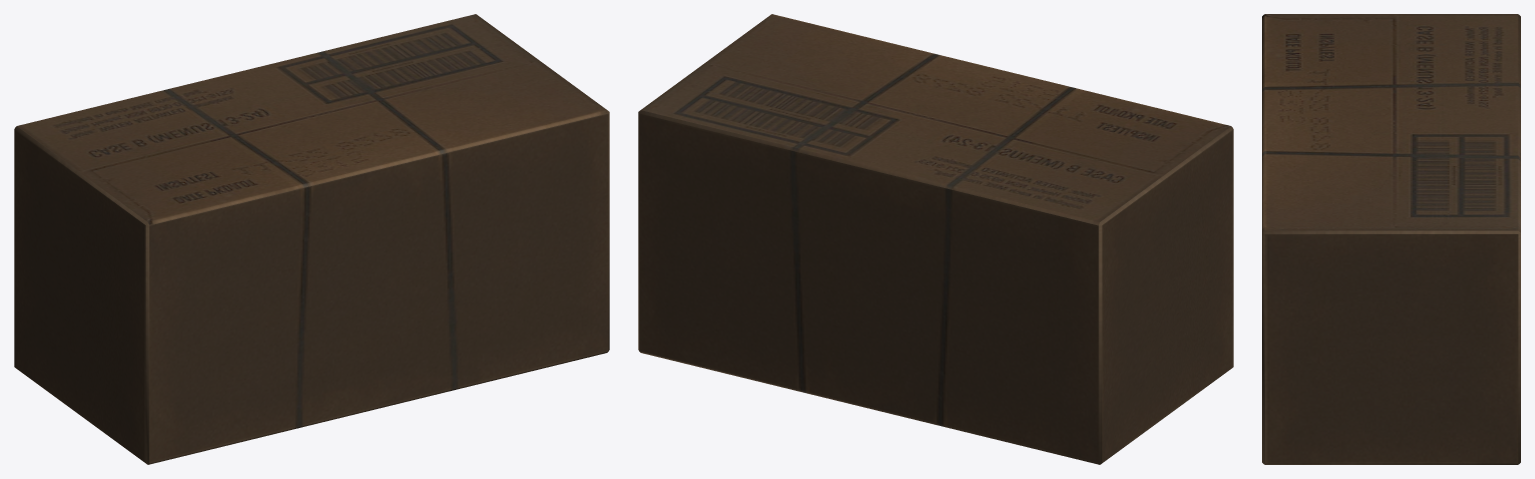
File: supply_box_1.obj
3 views of the same model, side by side, from view 1: azimuth 30°, elevation 25°; view 2: azimuth 150°, elevation 25°; view 3: azimuth 270°, elevation 25° (orthographic). The views are drawn at different scales.
Parts seen in each view (by area): view 1: supply_box_1; view 2: supply_box_1; view 3: supply_box_1.
Boxes of the visible parts, x1,y1,x2,y2 form: supply_box_1: (14,14,609,464); supply_box_1: (638,14,1233,464); supply_box_1: (1262,14,1520,464).
Bounding box in the file's own units: 0.6 × 0.3 × 0.3.
